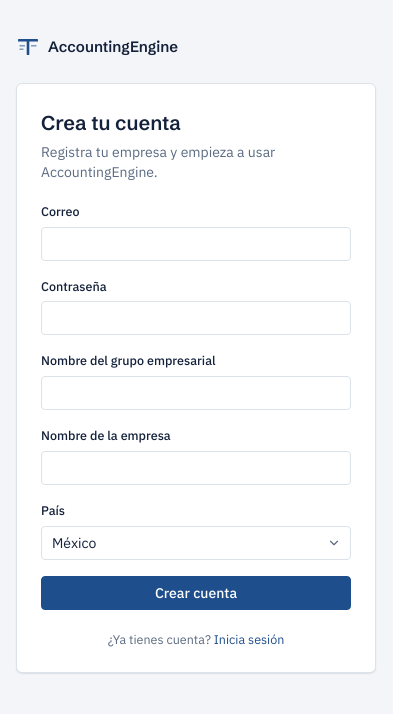
RegisterPage › shows the duplicate email error without navigating away
The image size is (393, 714).
Type "owner@acme.test" into the field labelled "Correo".
click(196, 244); type("owner@acme.test")  # box x1=41 y1=226 x2=351 y2=260
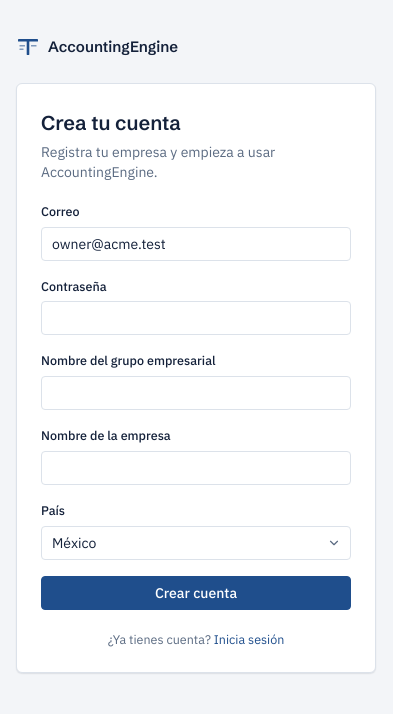
Type "s3cret-password" into the password field labelled "Contraseña".
click(196, 318); type("s3cret-password")  # box x1=41 y1=301 x2=351 y2=335
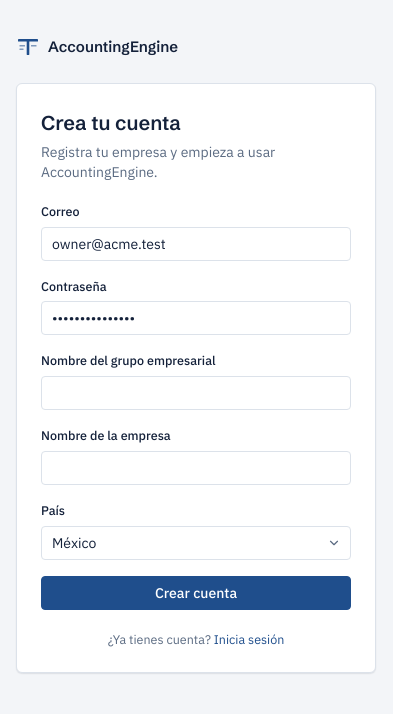
Type "Acme" into the field labelled "Nombre del grupo empresarial".
click(196, 393); type("Acme")  # box x1=41 y1=376 x2=351 y2=410
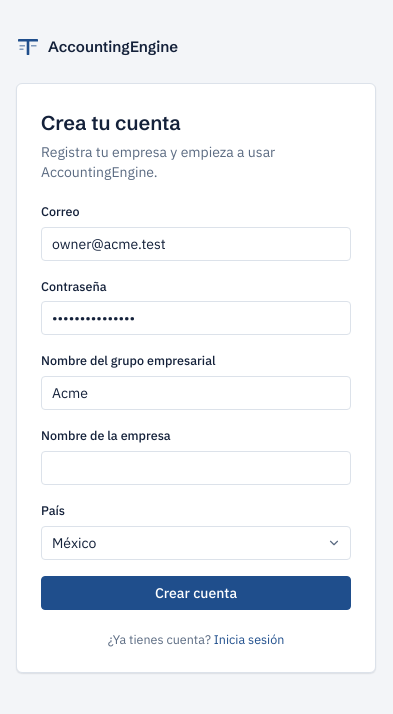
Type "Acme MX" into the field labelled "Nombre de la empresa".
click(196, 468); type("Acme MX")  # box x1=41 y1=451 x2=351 y2=485
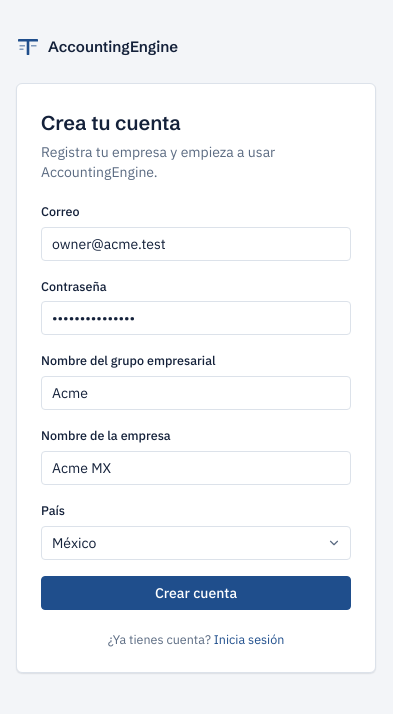
Click the button "Crear cuenta".
click(196, 592)  # box x1=41 y1=576 x2=351 y2=610
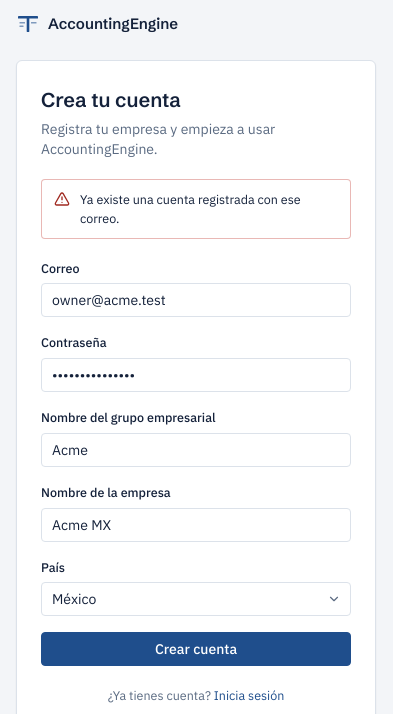
Check: the heading "Crea tu cuenta" is shown, box x1=41 y1=87 x2=181 y2=112
Check: the message reads "Ya existe una cuenta registrada con ese correo.", box x1=80 y1=191 x2=301 y2=226
